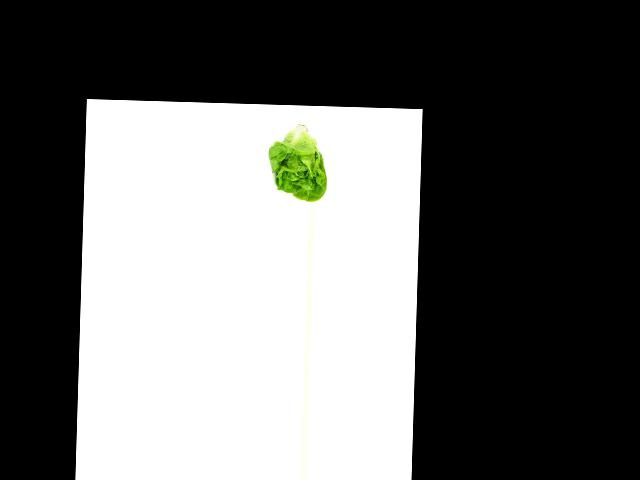lettuce: (262, 120, 330, 202)
